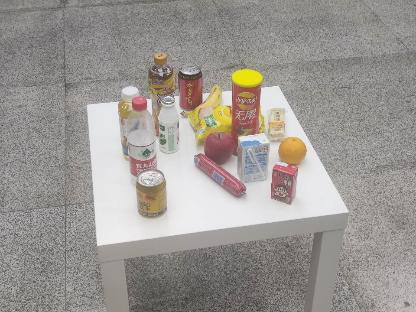Can: (135, 168, 169, 218), (177, 64, 203, 108)
Others: (229, 66, 261, 154), (236, 132, 272, 184), (270, 159, 300, 205)
Plastic Bottle: (119, 95, 161, 177)
